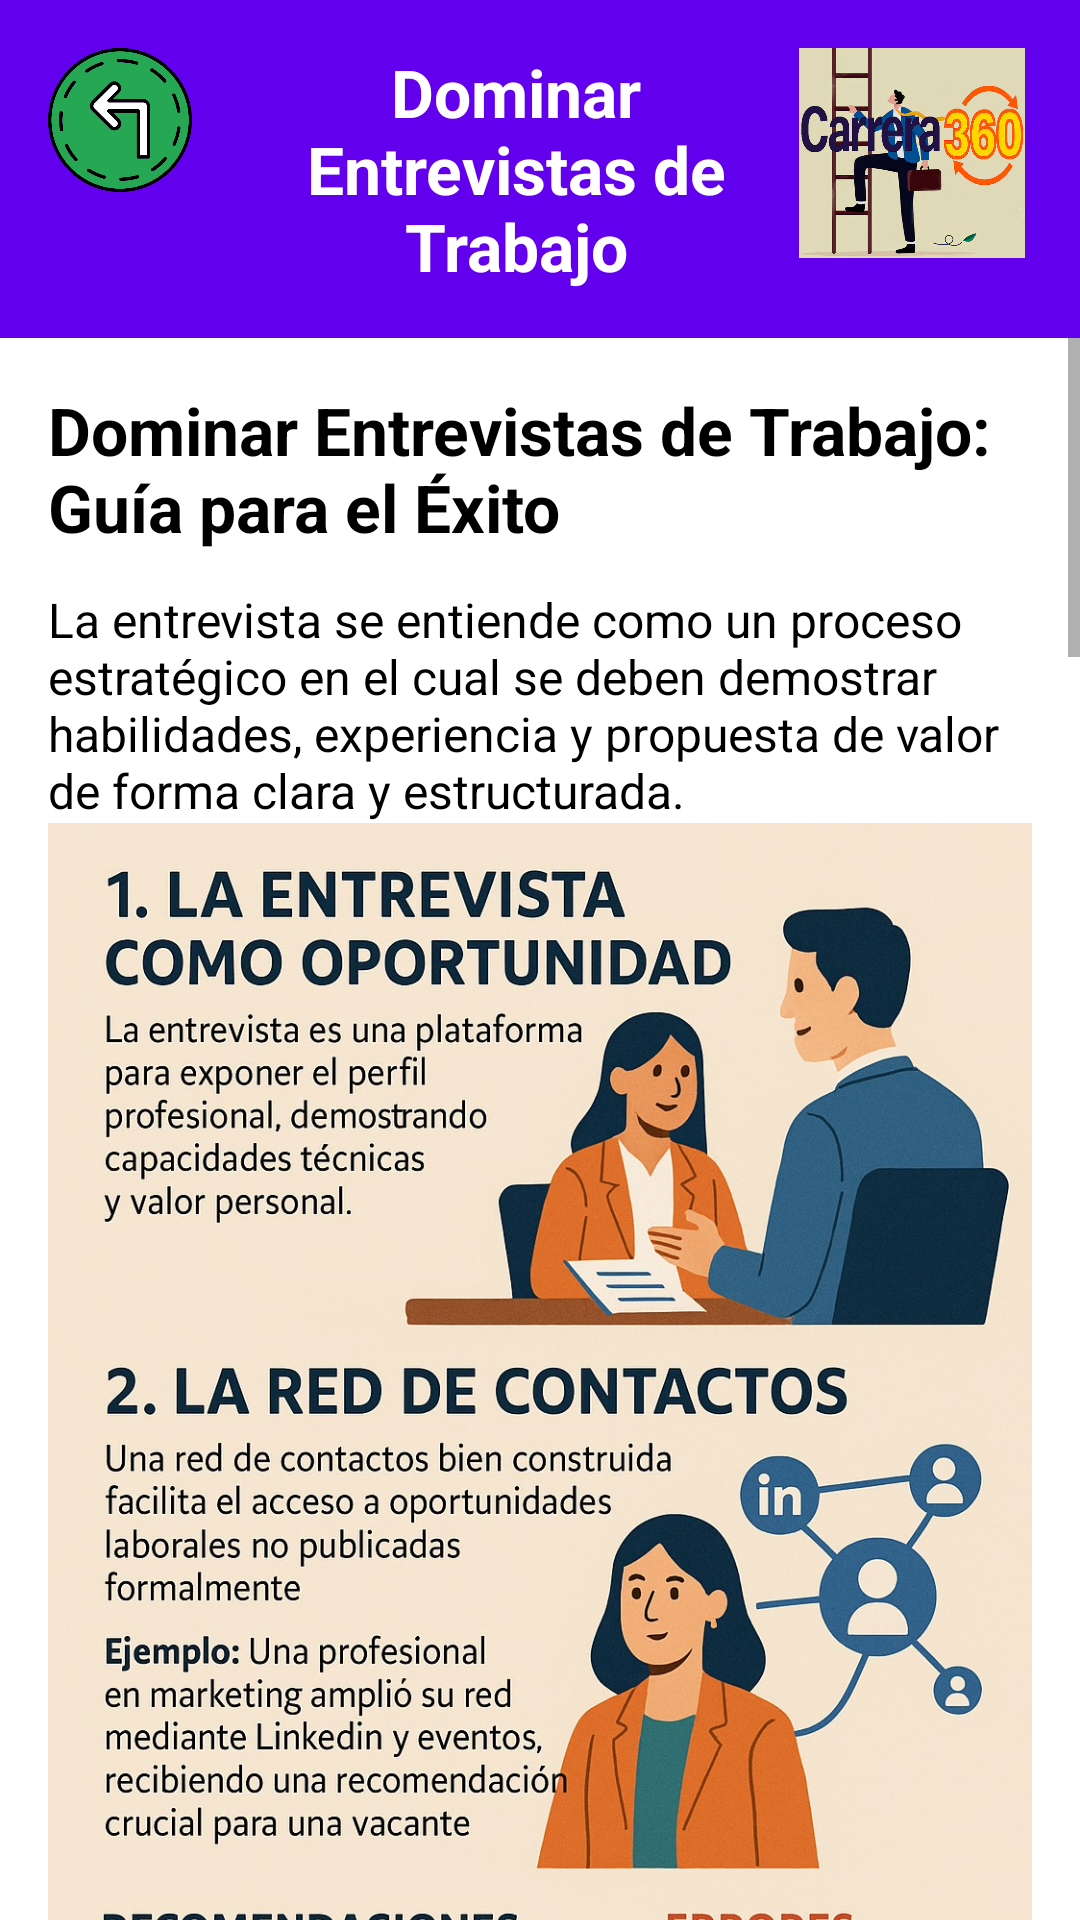

Icons on this 1080px x 1920px Android screen, each with the point to tap as (x,y):
Regresar a Inicio: (120,120)
